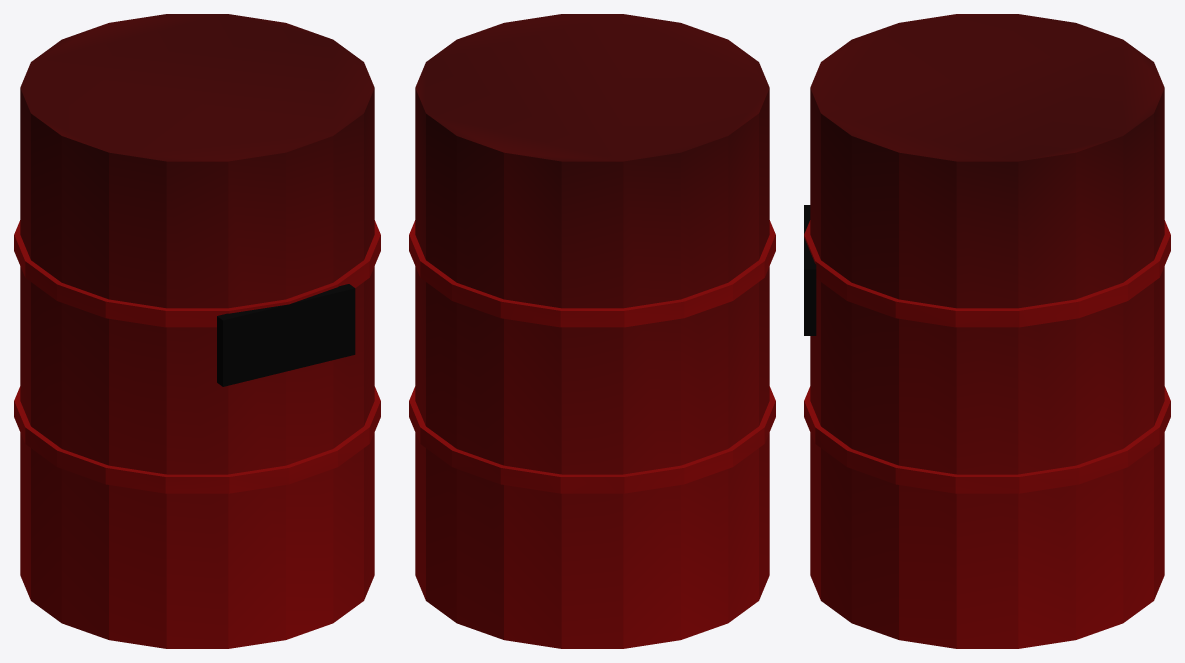
File: fuel_drum.glb
3 views of the same model, side by side, from view 1: azimuth 30°, elevation 25°; view 2: azimuth 150°, elevation 25°; view 3: azimuth 270°, elevation 25° (orthographic).
Visible parts, largest first — view 1: fuel_drum; view 2: fuel_drum; view 3: fuel_drum.
Part boxes in pixels (x1,y1,x2,y2): fuel_drum: (14, 14, 380, 648); fuel_drum: (409, 14, 775, 648); fuel_drum: (804, 14, 1170, 648).
Size of what is drawn, in the model's own units: 0.5909 by 0.88 by 0.6.
